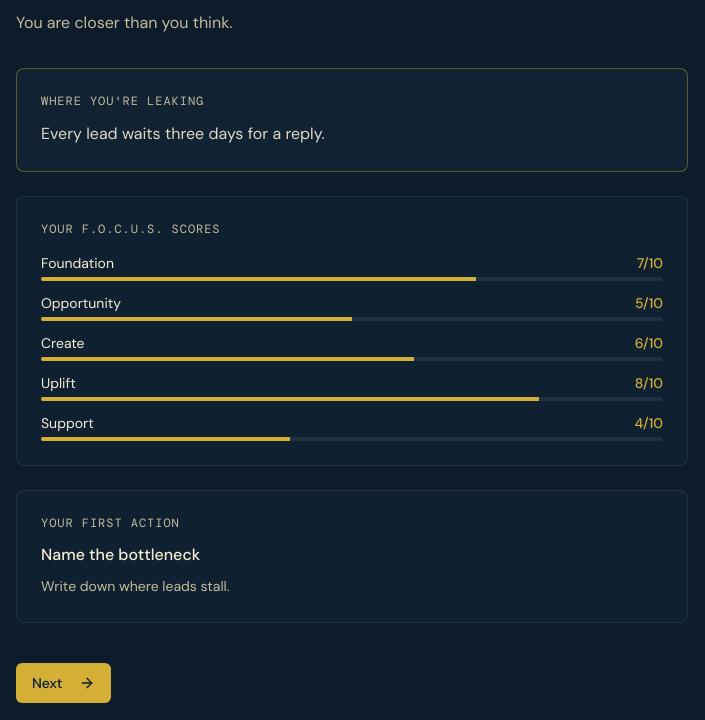
Test: /start buyer onboarding › shows the leak, the scores and the first action for an audit with a report
This screenshot has width=705, height=720.
Later steps or results of the test are not shown.
(page scrolled)
Expected: the text "Every lead waits three days for a reply." is shown, [41, 123, 325, 144]
Expected: the heading "Your F.O.C.U.S. scores" is shown, [41, 221, 220, 237]
Step 1. Click the button "Next" → x=63, y=683, box [16, 663, 110, 703]
(page scrolled)
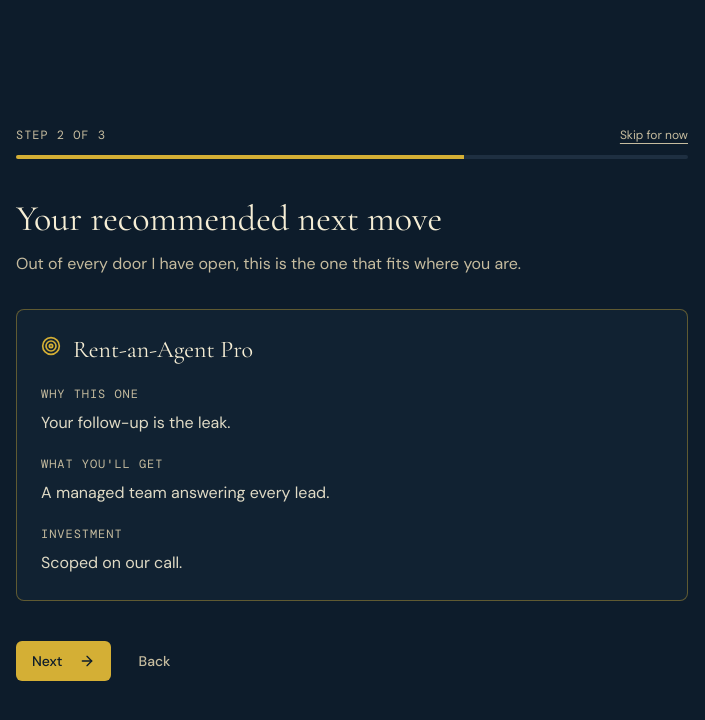
Result: the heading "Rent-an-Agent Pro" is shown at [73, 334, 253, 366]
Result: the text "Your follow-up is the leak." is shown at [41, 412, 230, 433]
